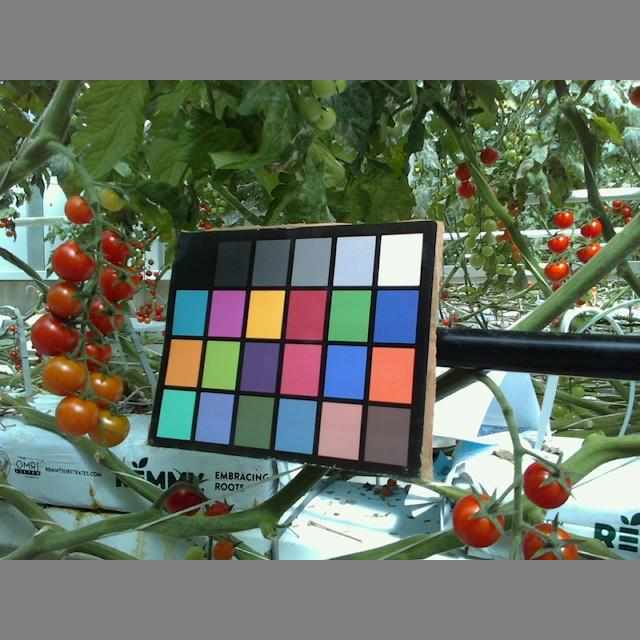green: (99, 185, 126, 210)
pink: (43, 353, 84, 394), (92, 407, 131, 448), (59, 398, 97, 436), (90, 371, 125, 407), (44, 285, 82, 315), (61, 194, 93, 222)
red: (455, 490, 505, 547), (526, 459, 573, 511), (27, 315, 78, 357), (525, 521, 579, 560), (50, 242, 93, 281), (90, 297, 121, 335), (98, 227, 129, 259), (84, 337, 110, 364)
